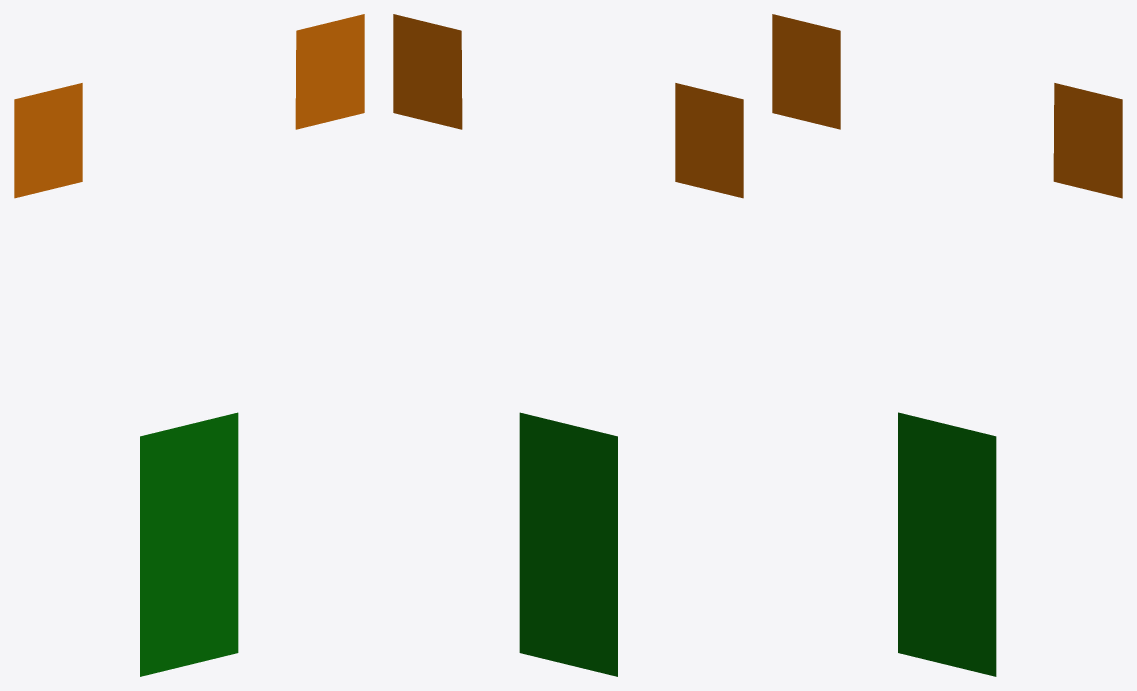
File: FacadeLLOD2.fbx
The picture shows the model from 3 angles, left to right: view 1: azimuth 30°, elevation 25°; view 2: azimuth 150°, elevation 25°; view 3: azimuth 330°, elevation 25°; orthographic projection.
Visible parts, largest first — view 1: FacadeLDoorway, FacadeLWindowB, FacadeLWindowA; view 2: FacadeLDoorway, FacadeLWindowB, FacadeLWindowA; view 3: FacadeLDoorway, FacadeLWindowB, FacadeLWindowA.
Part boxes in pixels (box(x1,y1,x2,y2)): FacadeLDoorway: box(140, 412, 238, 676); FacadeLWindowB: box(295, 14, 364, 129); FacadeLWindowA: box(14, 83, 82, 198); FacadeLDoorway: box(519, 412, 617, 676); FacadeLWindowB: box(393, 14, 462, 129); FacadeLWindowA: box(675, 83, 743, 198); FacadeLDoorway: box(898, 412, 996, 676); FacadeLWindowB: box(1053, 83, 1122, 198); FacadeLWindowA: box(772, 14, 840, 129).
Size of what is drawn, in the model's own units: 404 by 671 by 0.
